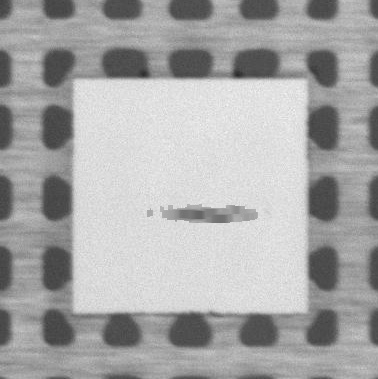DIE_INK: (136, 202, 266, 227)
